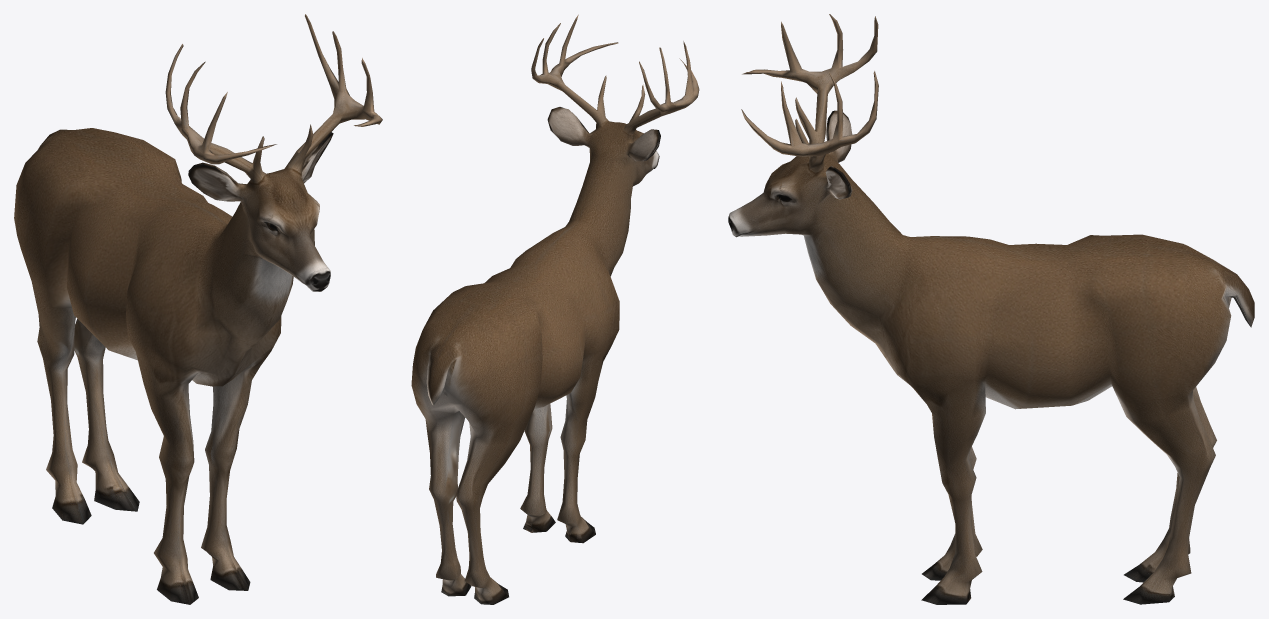
Rendered from vermont.fbx.
3 views of the same model, side by side, from view 1: azimuth 30°, elevation 25°; view 2: azimuth 150°, elevation 25°; view 3: azimuth 270°, elevation 25° (orthographic). The views are drawn at different scales.
Parts seen in each view (by area): view 1: Mesh_0; view 2: Mesh_0; view 3: Mesh_0.
Part boxes in pixels (left/top/right/bottom): Mesh_0: left=14, top=14, right=382, bottom=604; Mesh_0: left=411, top=14, right=699, bottom=604; Mesh_0: left=728, top=14, right=1254, bottom=604.
Size of the model in its own units: 31.93 by 100 by 87.7.
Materials: 1 (1 with a texture image).
